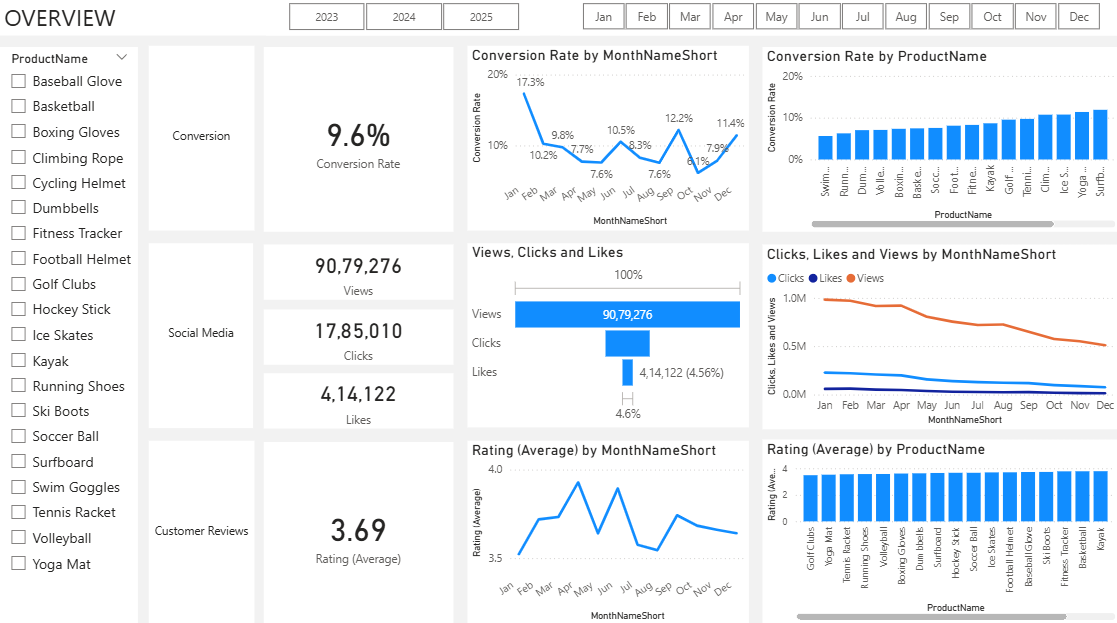

Layout of this report page (visuals, bound fields, positions):
{"tool":"powerbi","page":{"name":"Overview","canvas":[1280,720],"ordinal":0},"visuals":[{"type":"textbox","box":[0,0,1280.3,44],"z":0},{"type":"slicer","fields":{"Values":["dim_products.ProductName"]},"box":[0,57.5,157.7,662.8],"z":1000},{"type":"textbox","box":[170,56.3,120.4,211.2],"z":2000},{"type":"card","fields":{"Values":["Calculations.Conversion Rate"]},"box":[302,57.5,216.4,211.6],"z":3000},{"type":"slicer","fields":{"Values":["Calendar.MonthNameShort"]},"box":[639.5,0,640.8,44],"z":4000},{"type":"textbox","box":[170,281.3,119.4,211.2],"z":5000},{"type":"lineChart","fields":{"Y":["Calculations.Conversion Rate"],"Category":["Calendar.MonthNameShort"]},"box":[534.4,56.3,321.6,211.6],"z":6000},{"type":"textbox","box":[170,507.5,120.4,211.2],"z":7000},{"type":"card","fields":{"Values":["Calculations.Views"]},"box":[302,282.5,216.4,63.6],"z":8000},{"type":"card","fields":{"Values":["Calculations.Rating (Average)"]},"box":[302,508.7,216.4,211.6],"z":9000},{"type":"clusteredColumnChart","fields":{"Category":["dim_products.ProductName"],"Y":["Calculations.Conversion Rate"]},"box":[871.9,57.5,408.4,211.6],"z":10000},{"type":"card","fields":{"Values":["Calculations.Clicks"]},"box":[302,357.1,216.4,63.6],"z":11000},{"type":"card","fields":{"Values":["Calculations.Likes"]},"box":[302,430.4,216.4,63.6],"z":12000},{"type":"lineChart","fields":{"Category":["Calendar.MonthNameShort"],"Y":["Calculations.Clicks","Calculations.Likes","Calculations.Views"]},"box":[871.9,282.5,408.4,211.6],"z":13000},{"type":"funnel","fields":{"Y":["Calculations.Views","Calculations.Clicks","Calculations.Likes"]},"box":[534.4,281.3,321.6,210.3],"z":14000},{"type":"lineChart","fields":{"Category":["Calendar.MonthNameShort"],"Y":["Calculations.Rating (Average)"]},"box":[534.4,507.5,321.6,211.6],"z":15000},{"type":"clusteredColumnChart","fields":{"Category":["dim_products.ProductName"],"Y":["Calculations.Rating (Average)"]},"box":[871.9,506.3,408.4,211.6],"z":16000},{"type":"slicer","fields":{"Values":["Calendar.Year"]},"box":[304.3,0,312.9,44.3],"z":17000}]}

Visuals, with their boxes in screenshot pixels (x1, y1, x2, y2), scaled from the page's 1280x720 canvas onto the 1117x623 screenshot:
textbox: 0,0,1116,38
slicer - dim_products.ProductName: 0,50,138,622
textbox: 148,49,253,231
card - Calculations.Conversion Rate: 264,50,452,233
slicer - Calendar.MonthNameShort: 558,0,1116,38
textbox: 148,243,253,426
lineChart - Calculations.Conversion Rate x Calendar.MonthNameShort: 466,49,747,232
textbox: 148,439,253,622
card - Calculations.Views: 264,244,452,299
card - Calculations.Rating (Average): 264,440,452,622
clusteredColumnChart - dim_products.ProductName x Calculations.Conversion Rate: 761,50,1116,233
card - Calculations.Clicks: 264,309,452,364
card - Calculations.Likes: 264,372,452,427
lineChart - Calendar.MonthNameShort x Calculations.Clicks: 761,244,1116,428
funnel - Calculations.Views x Calculations.Clicks: 466,243,747,425
lineChart - Calendar.MonthNameShort x Calculations.Rating (Average): 466,439,747,622
clusteredColumnChart - dim_products.ProductName x Calculations.Rating (Average): 761,438,1116,621
slicer - Calendar.Year: 266,0,539,38
